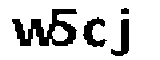5: (52, 7, 80, 49)
c: (81, 17, 109, 48)
j: (109, 5, 134, 58)
w: (10, 16, 54, 49)
